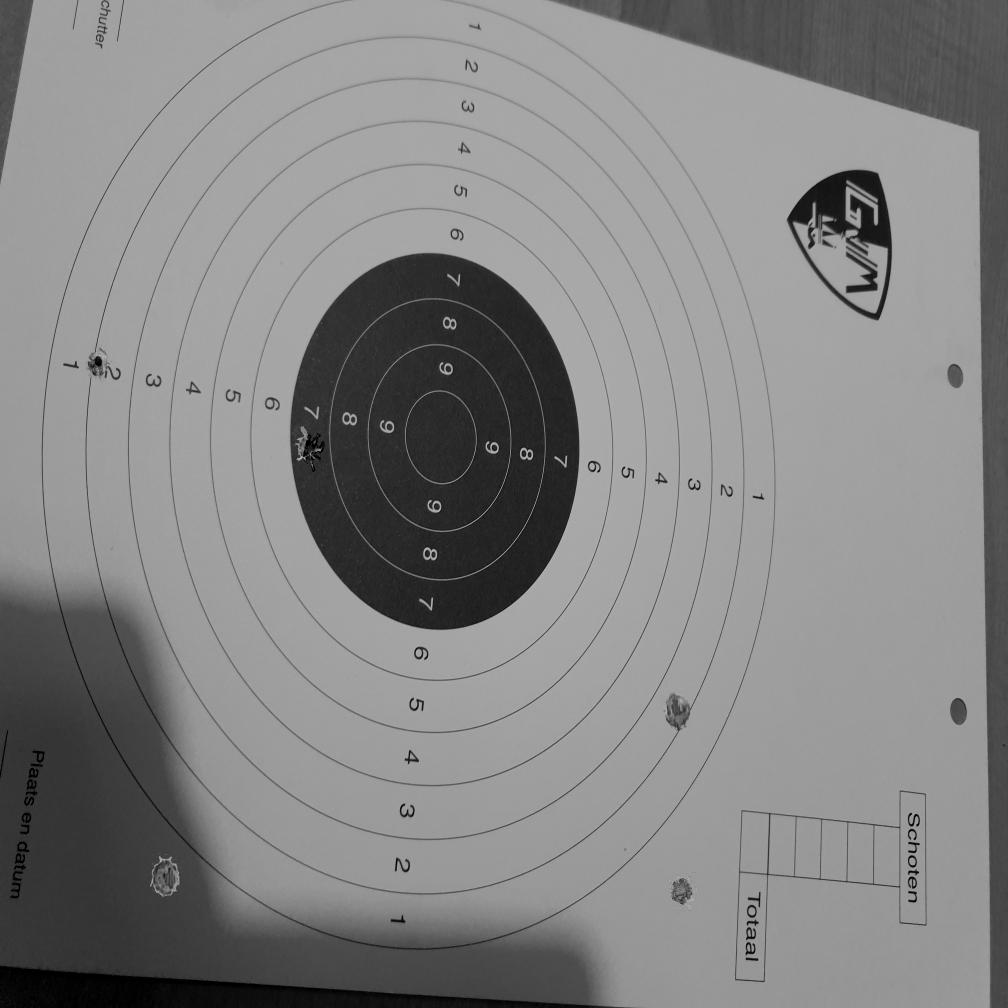0: (150, 856, 180, 899), (670, 875, 697, 910)
2: (663, 692, 691, 731), (88, 346, 110, 380)
7: (294, 427, 326, 470)
Target: (38, 4, 774, 956)
black_contour: (290, 253, 578, 631)
